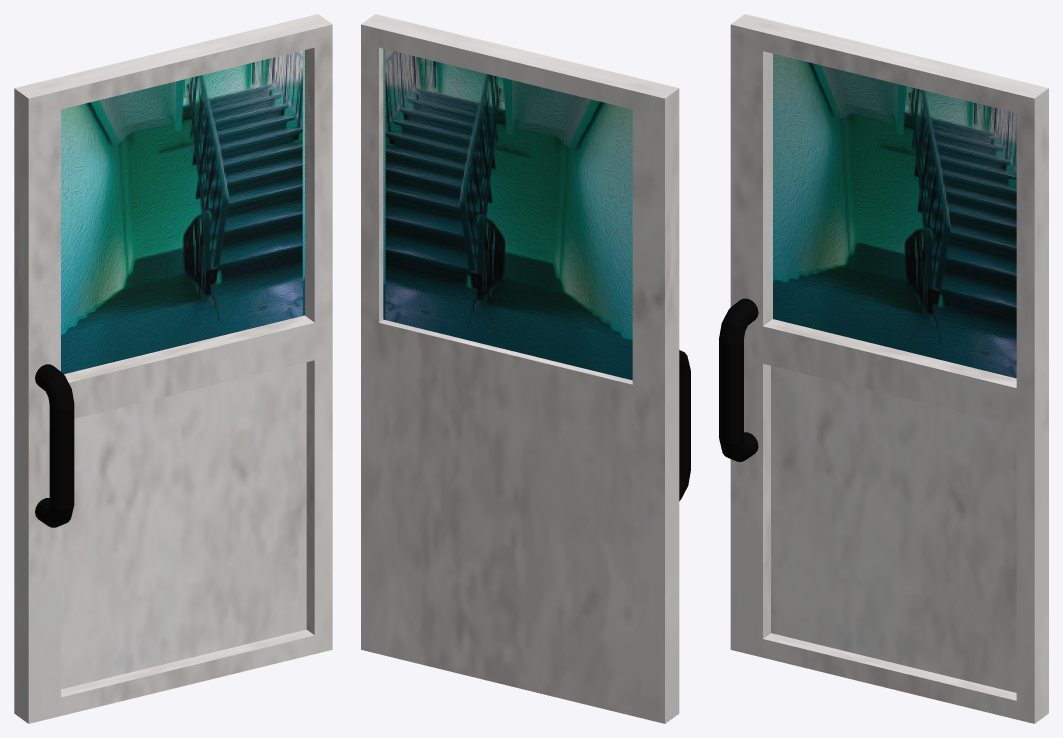
Rendered from дверь_коридор.fbx.
The picture shows the model from 3 angles, left to right: view 1: azimuth 30°, elevation 25°; view 2: azimuth 150°, elevation 25°; view 3: azimuth 330°, elevation 25°; orthographic projection.
Parts seen in each view (by area): view 1: Cube; view 2: Cube; view 3: Cube.
Boxes of the visible parts, left/top/right/bottom form: Cube: left=14, top=14, right=332, bottom=723; Cube: left=361, top=14, right=690, bottom=723; Cube: left=719, top=14, right=1048, bottom=723.
Size of the model in its own units: 188 by 370 by 39.57.
Materials: 3 (2 with a texture image).
